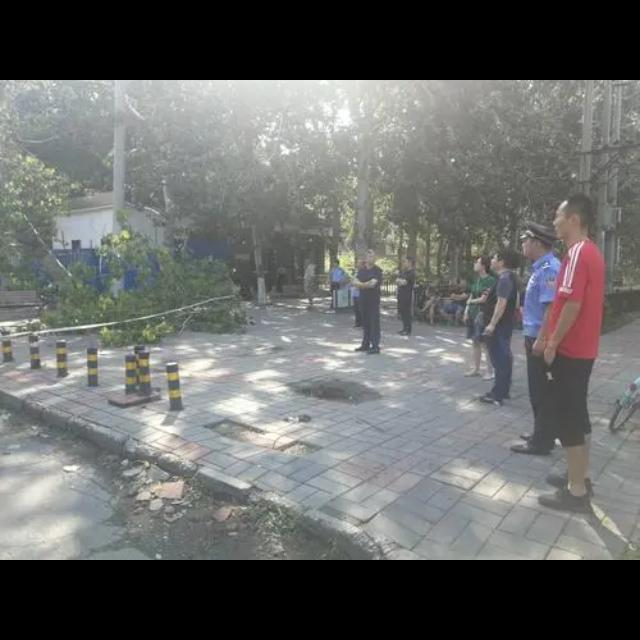fallen_tree: (18, 220, 238, 348), (1, 150, 109, 312)
